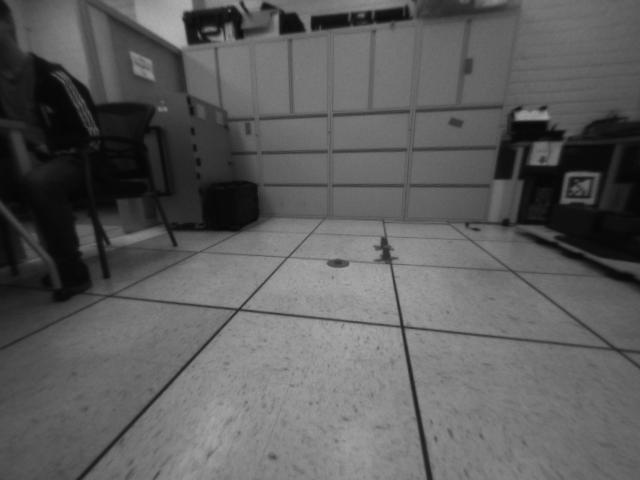X: (375, 249, 399, 265), (374, 238, 392, 250)
